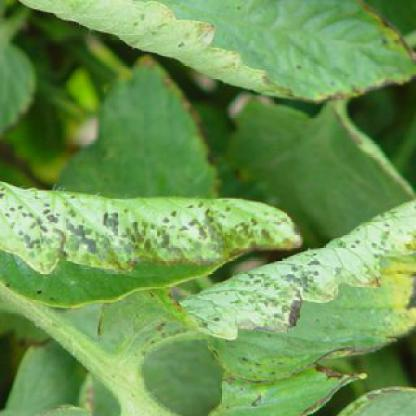Tomato leaf bacterial spot: (176, 186, 412, 381), (1, 191, 313, 306)
